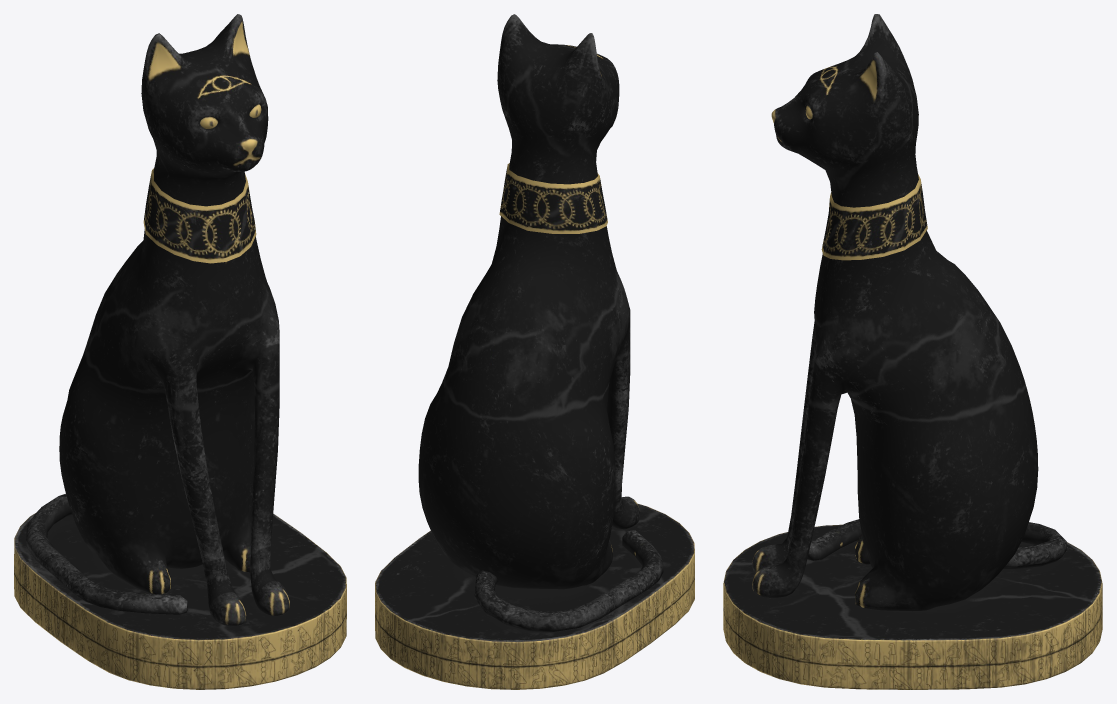
Rendered from egyptian_cat_statue.obj.
3 views of the same model, side by side, from view 1: azimuth 30°, elevation 25°; view 2: azimuth 150°, elevation 25°; view 3: azimuth 270°, elevation 25° (orthographic). The views are drawn at different scales.
Bounding box in the file's own units: 40.47 × 95.99 × 55.1.
1 material, 1 textured.
